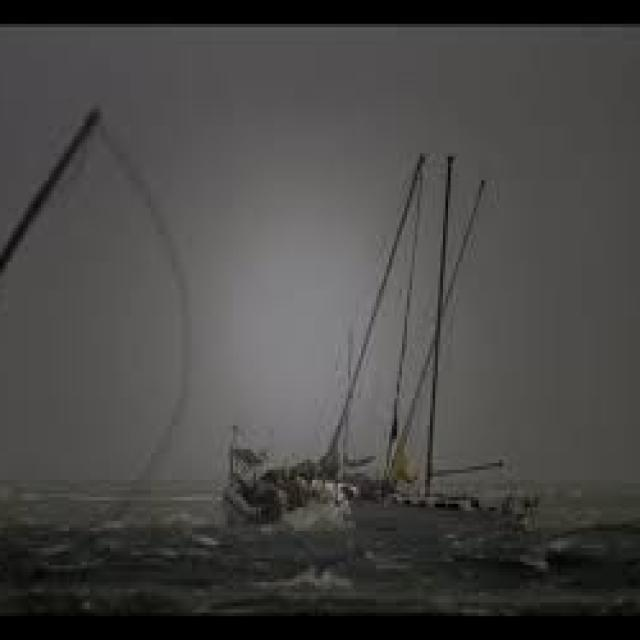fishing boat: (204, 116, 522, 540)
